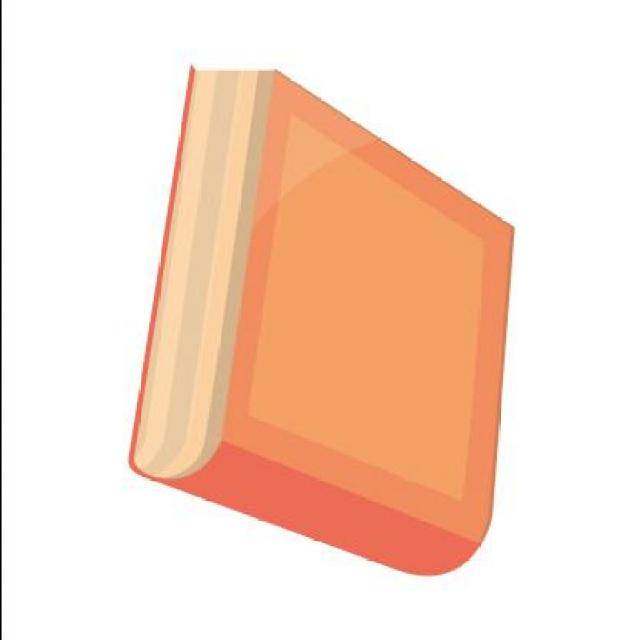book: (104, 66, 575, 586)
